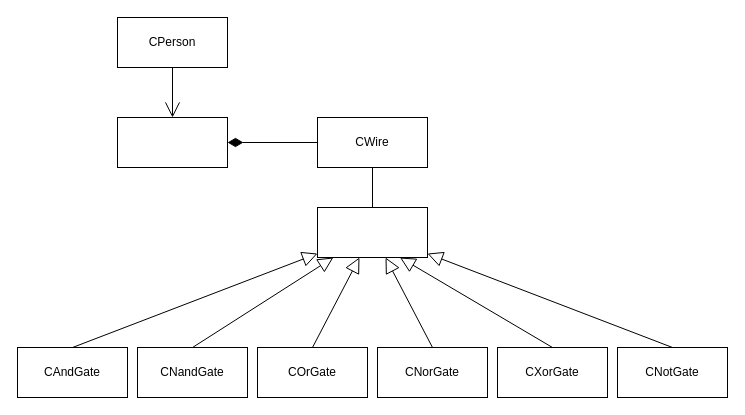
The diagram is 745 pixels wide and 415 high, and some of its shapes have lost their labels. The shapes that lost their labels are listed below. From the top down, each one's centre as x and y in pixels, then its label:
At (172,142): "CSoftCircuit".
At (372,232): "CGate".
